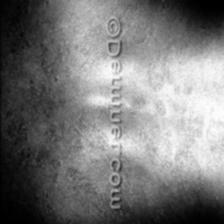Non-Cancerous Skin Condition: (3, 0, 29, 56), (4, 118, 36, 162)
